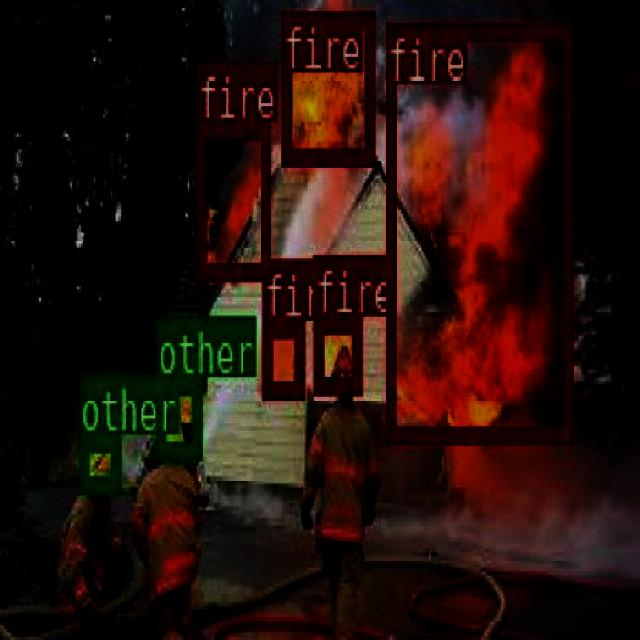fire: (384, 21, 572, 440), (279, 9, 372, 162), (195, 120, 268, 278), (313, 316, 359, 390), (262, 318, 302, 394)
